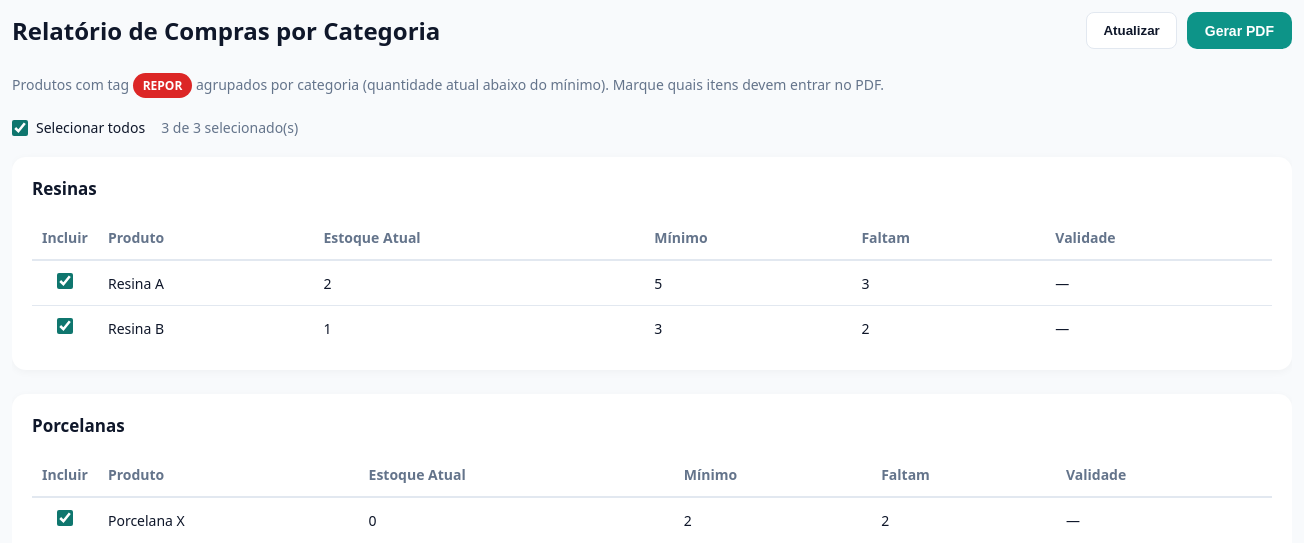
RelatorioCompras › permite desmarcar um item
Check: the text "Resina A" is shown, box x1=98 y1=260 x2=313 y2=306
What coordinates should you click on to do the following:
click the checkbox next to "Resina A"
I would click on:
 (65, 281)
Its box is x1=57 y1=273 x2=73 y2=289.
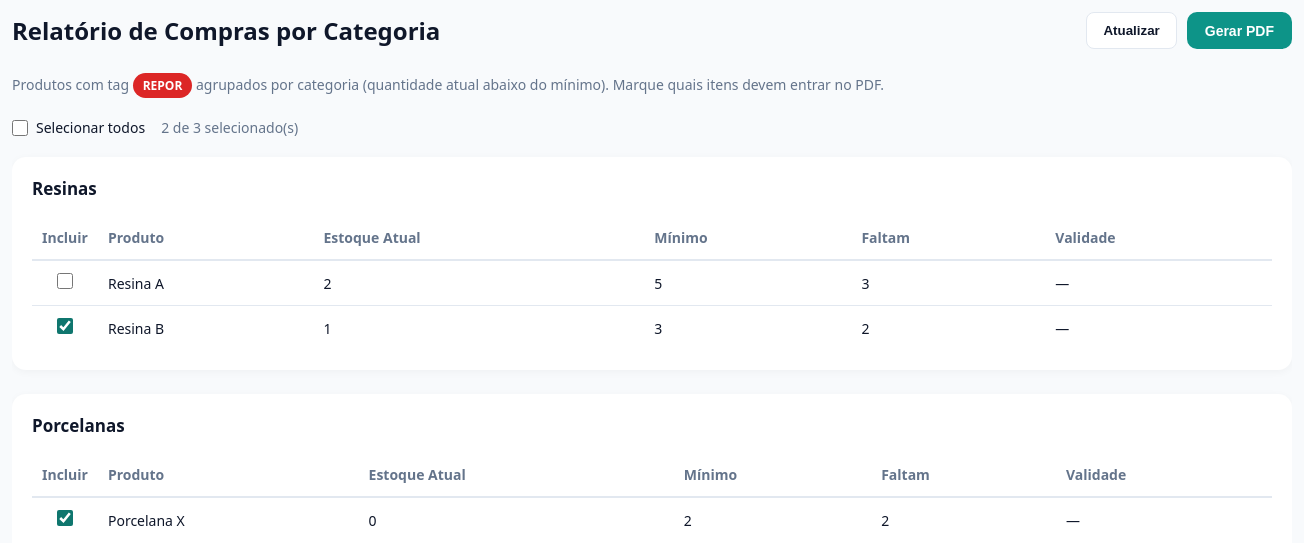
Check: the text "2 de 3 selecionado(s)" is shown, box x1=161 y1=118 x2=298 y2=137
